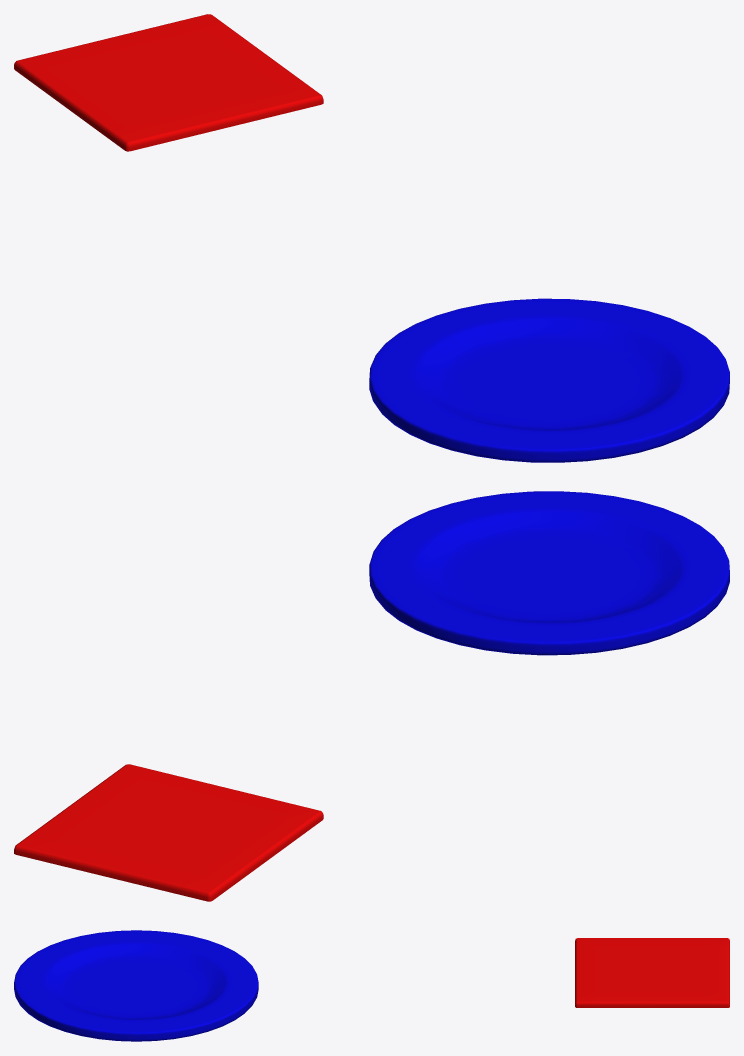
The model's file is nori_high_explosion.fbx.
The picture shows the model from 3 angles, top to bottom: view 1: azimuth 30°, elevation 25°; view 2: azimuth 150°, elevation 25°; view 3: azimuth 270°, elevation 25°; orthographic projection. The views are drawn at different scales.
Visible parts, largest first — view 1: polySurface2, polySurface3; view 2: polySurface2, polySurface3; view 3: polySurface2, polySurface3.
Part boxes in pixels (x1=…): polySurface2: x1=369, y1=298, x2=729, y2=462; polySurface3: x1=14, y1=14, x2=323, y2=151; polySurface2: x1=369, y1=491, x2=729, y2=655; polySurface3: x1=14, y1=764, x2=323, y2=901; polySurface2: x1=14, y1=930, x2=258, y2=1041; polySurface3: x1=575, y1=938, x2=729, y2=1007.
Size of the model in its own units: 0.4741 by 0.0448 by 1.39.
